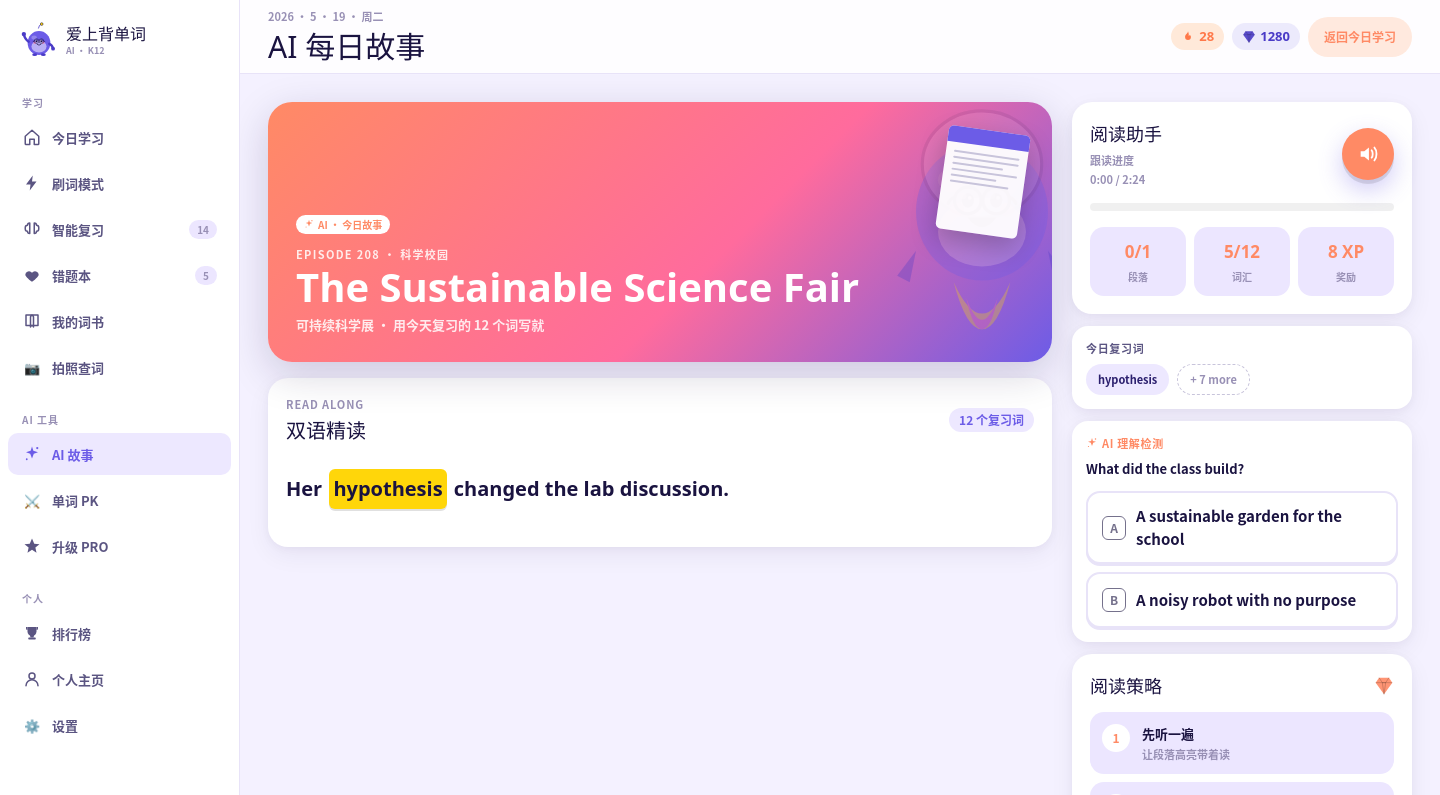
it: StoryScreen › resolves story words from imported wordbooks
The width and height of the screenshot is (1440, 795).
What coordinates should you click on to do the following:
click the button "hypothesis" next to "Her"
I would click on:
 (388, 488)
Its box is [329, 468, 447, 508].
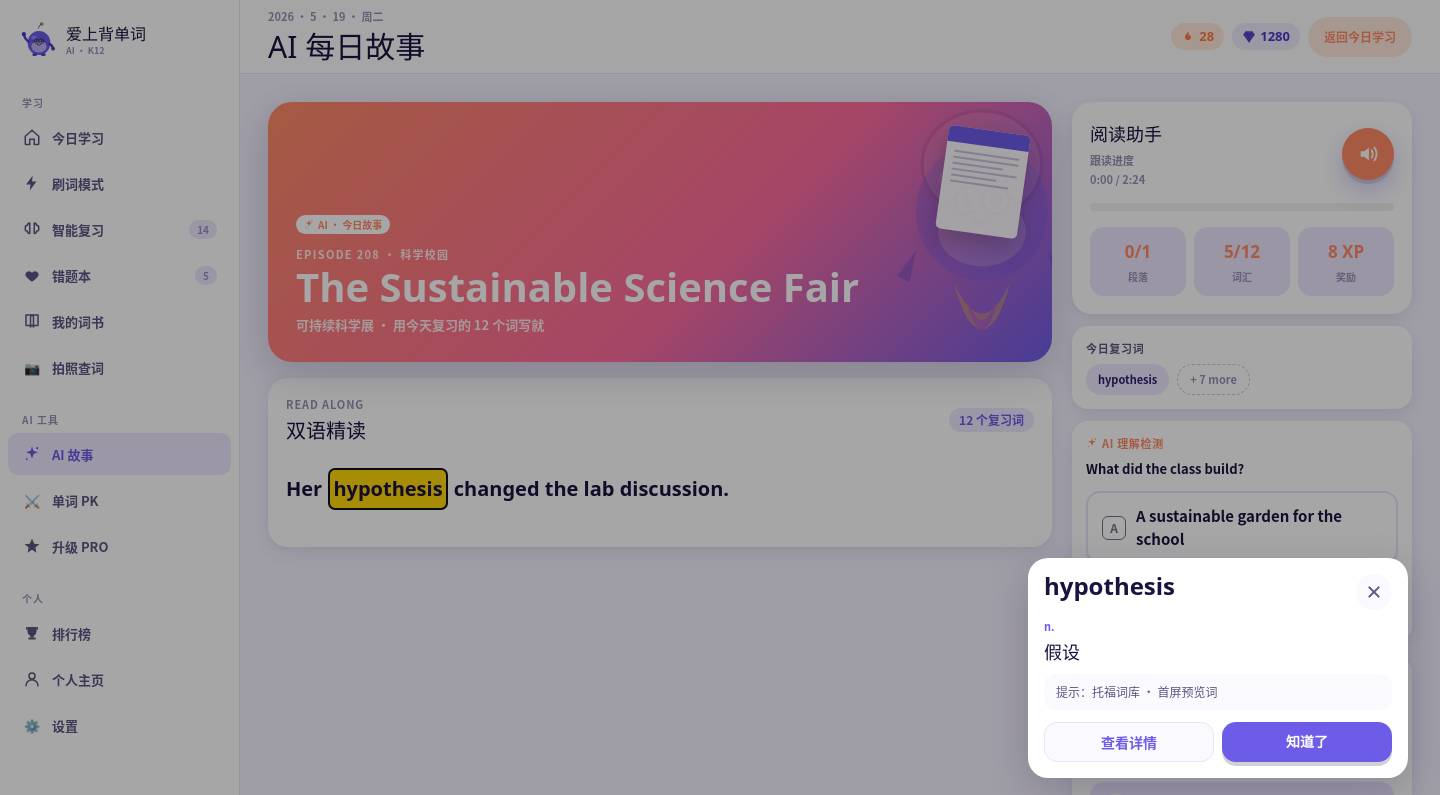
Expected: the dialog named "hypothesis 单词卡" is shown, [1028, 558, 1408, 778]
Expected: the text "假设" is shown, [1044, 640, 1080, 664]
